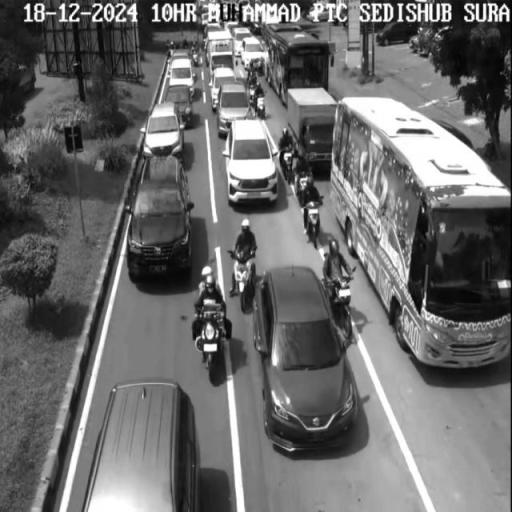bus: (336, 100, 509, 371), (268, 24, 330, 93)
car: (252, 273, 368, 451), (100, 381, 194, 512), (134, 159, 186, 290), (223, 120, 280, 199), (144, 113, 186, 158), (219, 89, 259, 126), (165, 91, 197, 126), (167, 60, 198, 91), (211, 69, 237, 101)
motorcycle: (198, 319, 226, 378), (233, 252, 257, 292), (303, 203, 327, 242), (297, 170, 315, 199)
truck: (287, 88, 345, 170)
